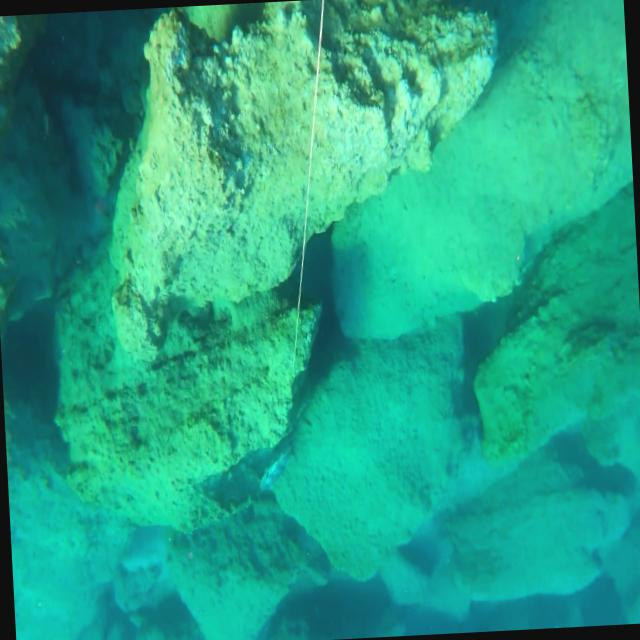Balon Baligi: (258, 444, 298, 491)
